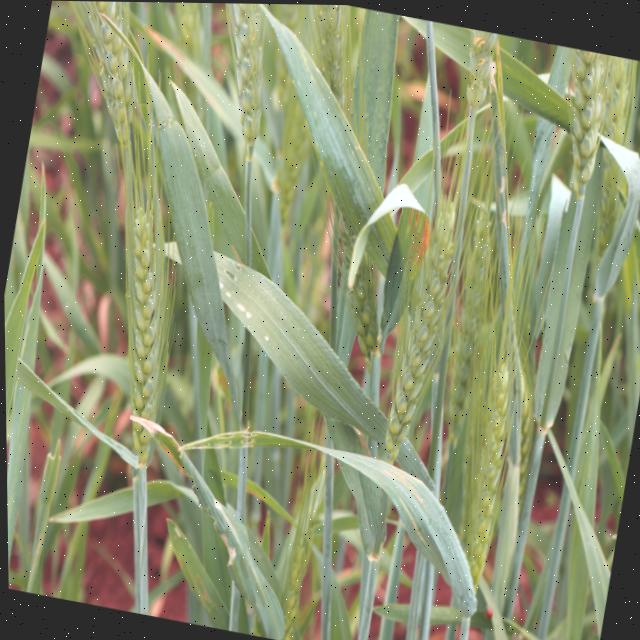healthy_wheat: (436, 45, 640, 640), (403, 269, 550, 640), (362, 98, 485, 476), (68, 154, 205, 419)
yellow_rust: (346, 455, 444, 552), (144, 517, 230, 624), (128, 414, 207, 509), (372, 196, 439, 270)
